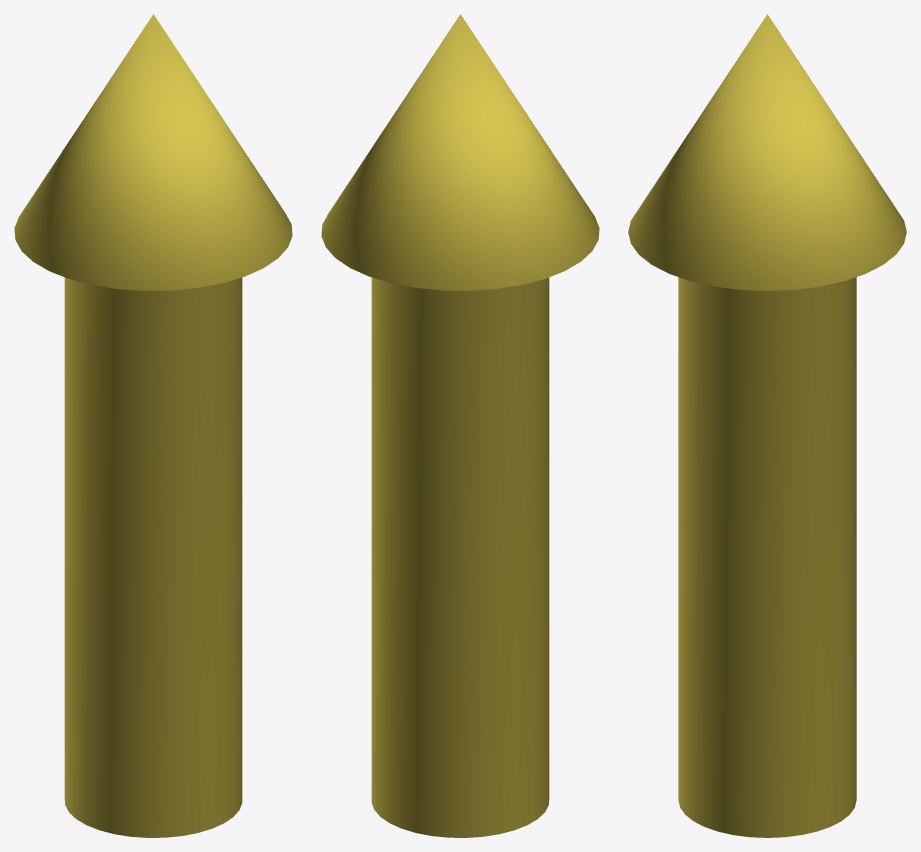
The model's file is trident_piece.fbx.
The picture shows the model from 3 angles, left to right: view 1: azimuth 30°, elevation 25°; view 2: azimuth 150°, elevation 25°; view 3: azimuth 270°, elevation 25°; orthographic projection.
Visible parts, largest first — view 1: Cylinder; view 2: Cylinder; view 3: Cylinder.
Boxes of the visible parts, left/top/right/bottom form: Cylinder: left=14, top=14, right=292, bottom=837; Cylinder: left=321, top=14, right=599, bottom=837; Cylinder: left=628, top=14, right=906, bottom=837.
Bounding box in the file's own units: 3.13 × 9.74 × 3.13.
